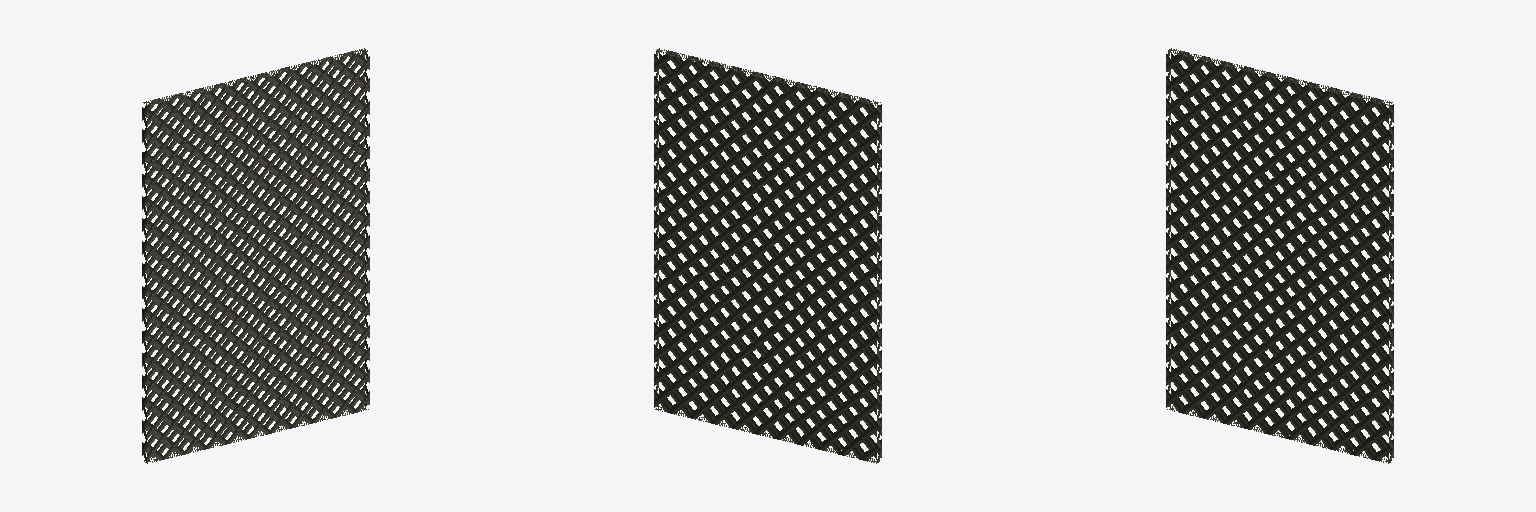
The picture shows the model from 3 angles: view 1: azimuth 30°, elevation 25°; view 2: azimuth 150°, elevation 25°; view 3: azimuth 330°, elevation 25°; orthographic projection.
Parts seen in each view (by area): view 1: Cube.013_Cube.022; view 2: Cube.013_Cube.022; view 3: Cube.013_Cube.022.
Boxes of the visible parts, box(x1,y1,x2,y2) form: Cube.013_Cube.022: box(142, 48, 369, 463); Cube.013_Cube.022: box(654, 48, 881, 463); Cube.013_Cube.022: box(1166, 48, 1393, 463).
Bounding box in the file's own units: 0.26 × 0.4 × 0.01.
Materials: 1 (1 with a texture image).